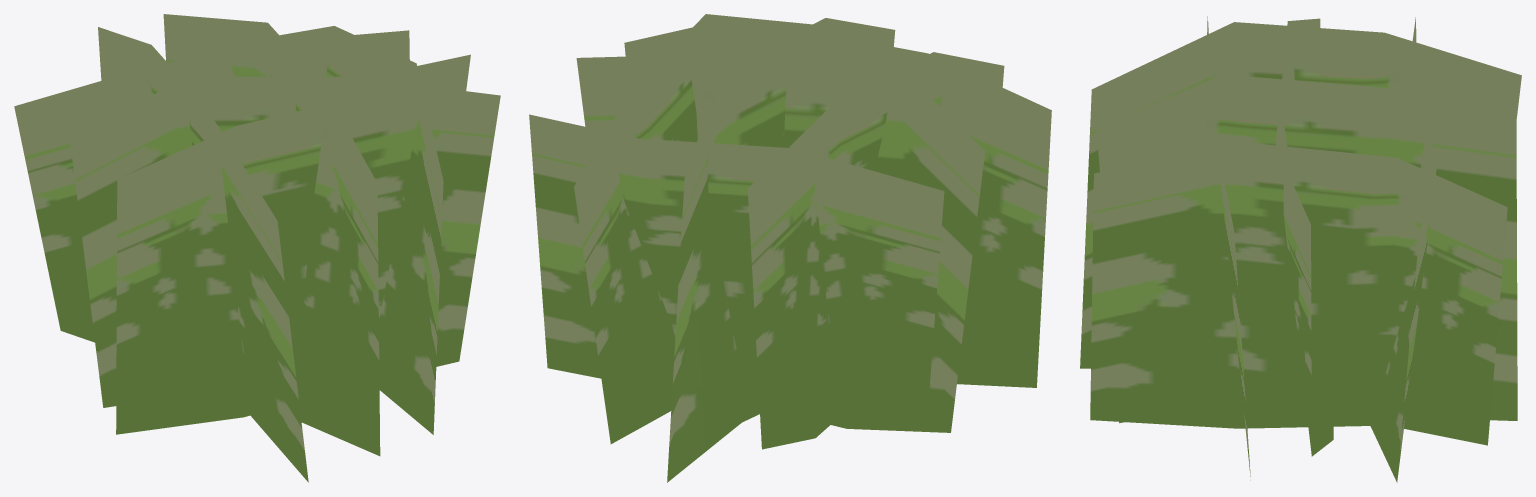
The model's file is Grass.fbx.
The picture shows the model from 3 angles, left to right: view 1: azimuth 30°, elevation 25°; view 2: azimuth 150°, elevation 25°; view 3: azimuth 270°, elevation 25°; orthographic projection. The views are drawn at different scales.
Parts seen in each view (by area): view 1: grasscross__1_; view 2: grasscross__1_; view 3: grasscross__1_.
Boxes of the visible parts, left/top/right/bottom form: grasscross__1_: left=14, top=14, right=500, bottom=482; grasscross__1_: left=529, top=14, right=1051, bottom=482; grasscross__1_: left=1080, top=16, right=1521, bottom=482.
Bounding box in the file's own units: 137 × 111 × 128.
Materials: 1 (1 with a texture image).
